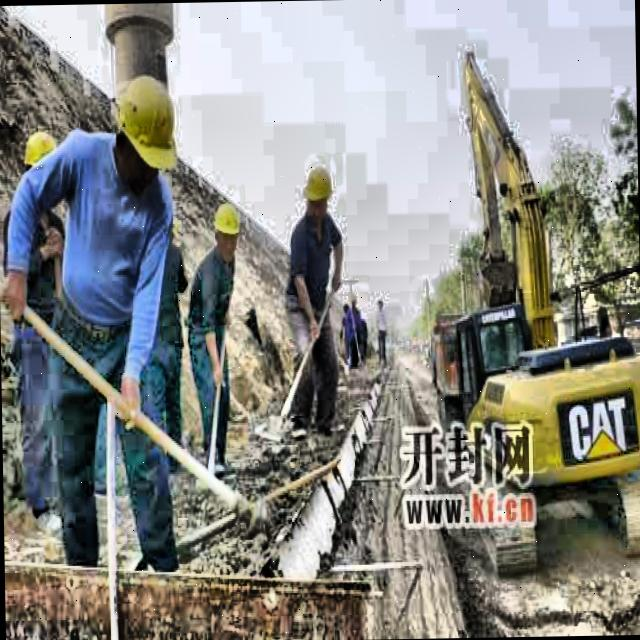helmet: (103, 42, 186, 198), (21, 122, 63, 184), (300, 160, 335, 220), (210, 198, 242, 260)
